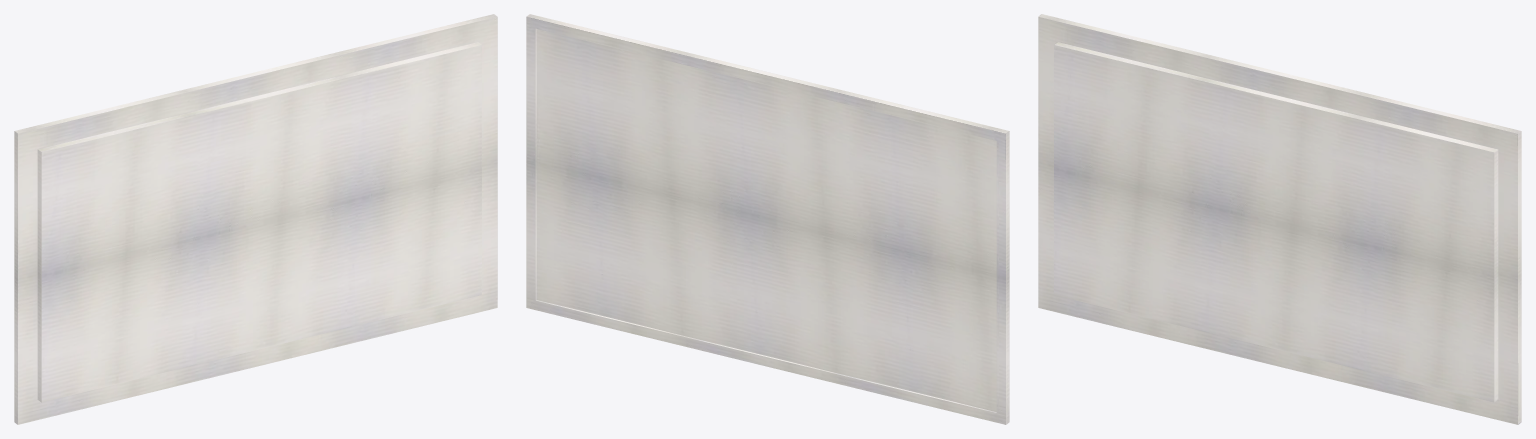
The model's file is frame9.glb.
3 views of the same model, side by side, from view 1: azimuth 30°, elevation 25°; view 2: azimuth 150°, elevation 25°; view 3: azimuth 330°, elevation 25° (orthographic).
Visible parts, largest first — view 1: Frame9; view 2: Frame9; view 3: Frame9.
Boxes of the visible parts, x1,y1,x2,y2 form: Frame9: (14,14,497,424); Frame9: (526,14,1009,424); Frame9: (1038,14,1521,424).
Size of the model in its own units: 6.34 by 3.68 by 0.1766.
Materials: 1 (1 with a texture image).
